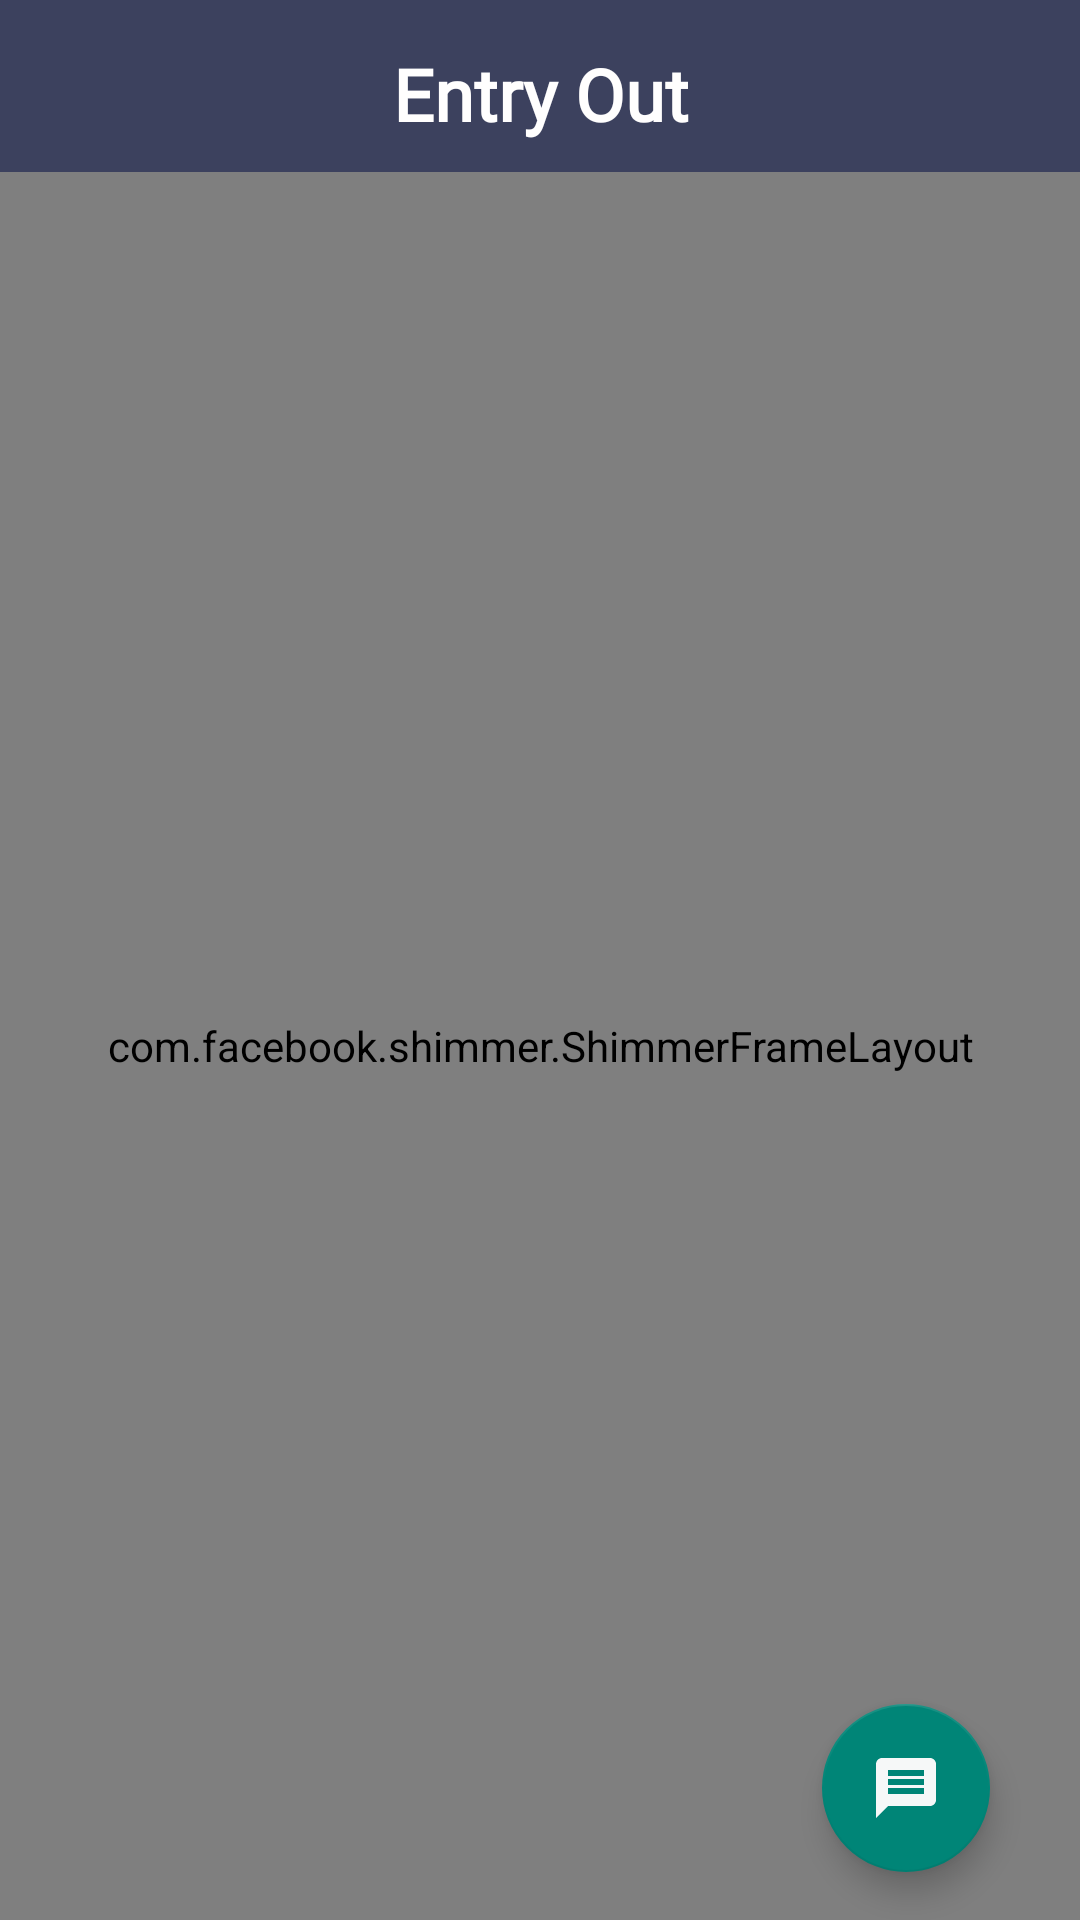

Named icons in this screenshot (1080px×1920px) and their centers, (x,y):
message: (906,1788)
